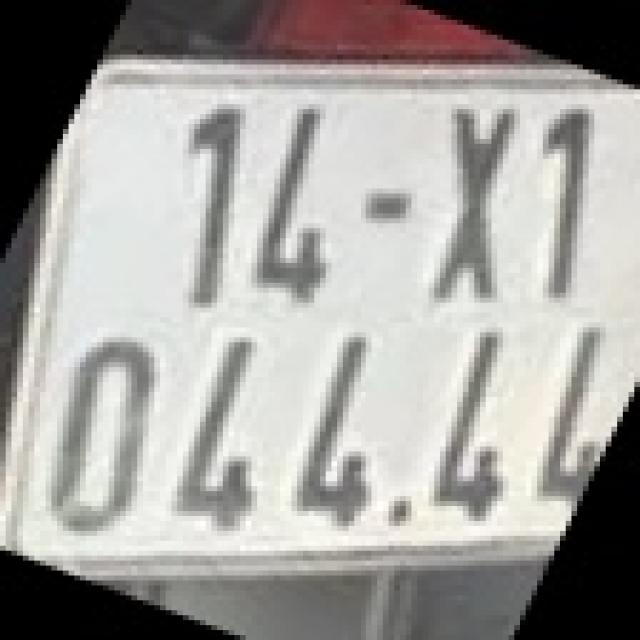0: (40, 332, 160, 536)
1: (171, 99, 246, 308), (537, 104, 594, 303)
4: (172, 332, 268, 536), (291, 327, 383, 531), (252, 104, 337, 308), (429, 327, 514, 526), (531, 315, 606, 514)
X: (429, 104, 514, 303)
